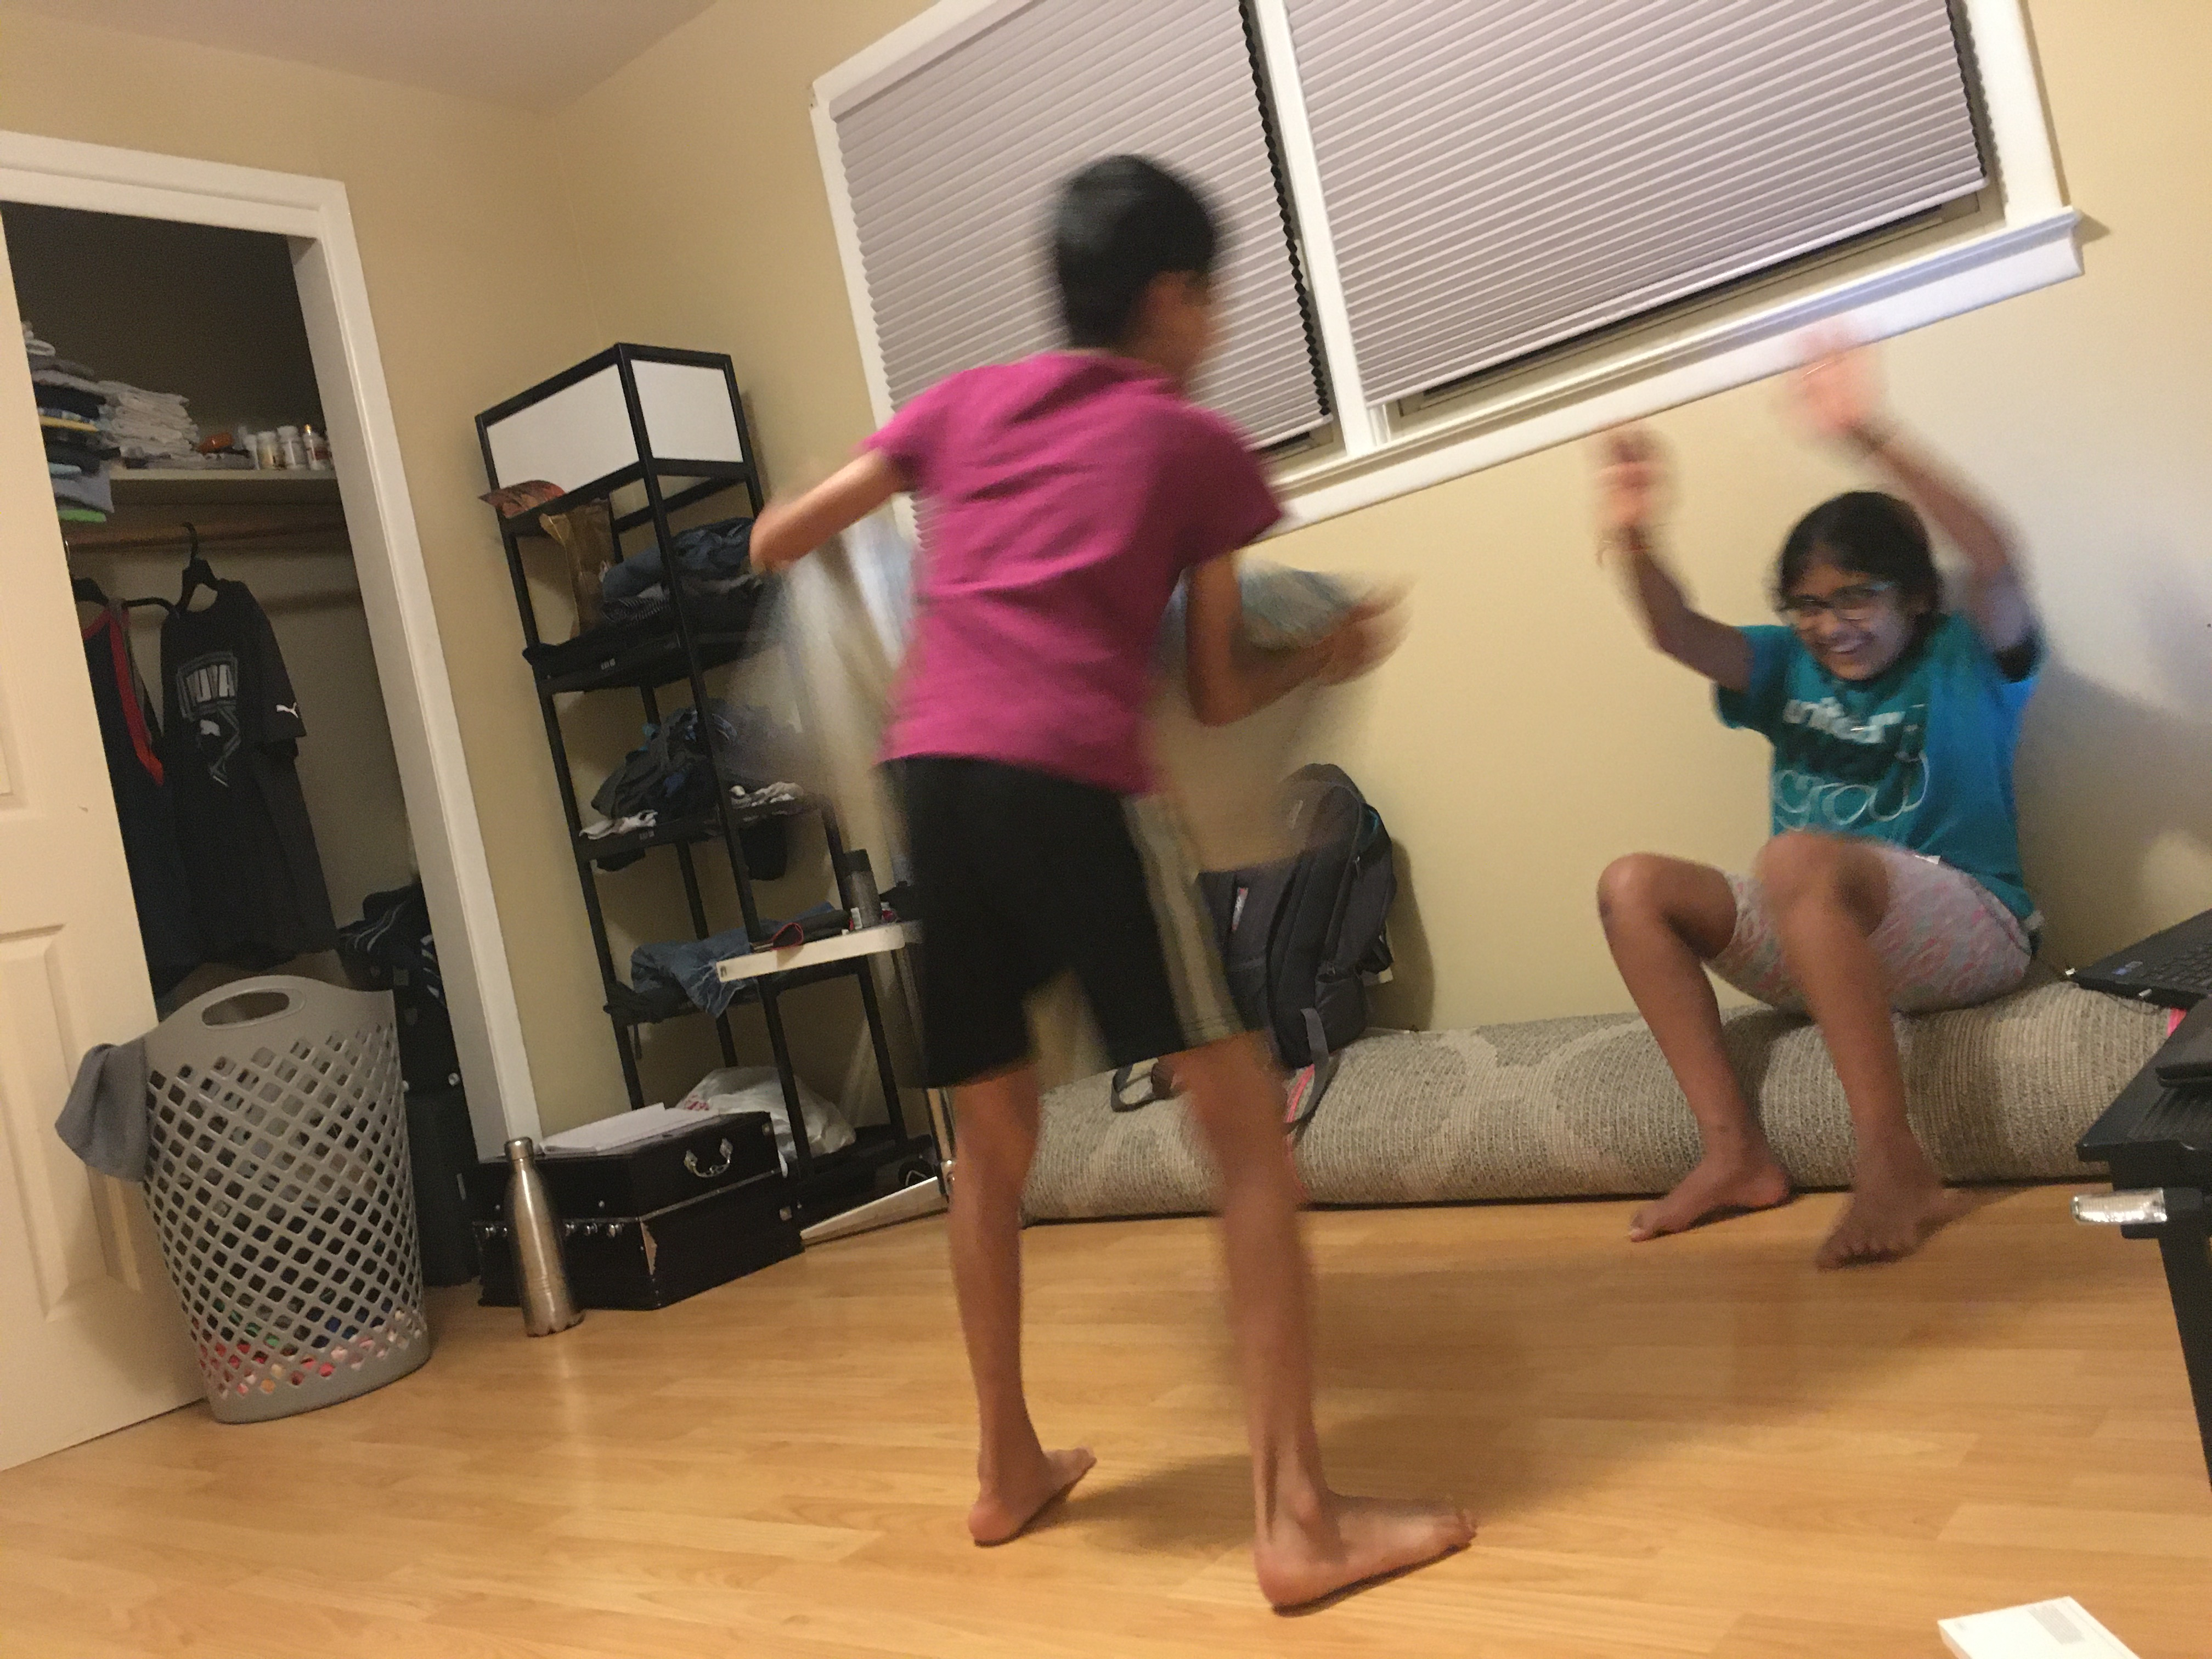Person: (744, 153, 1483, 1615), (1590, 318, 2050, 1275)
